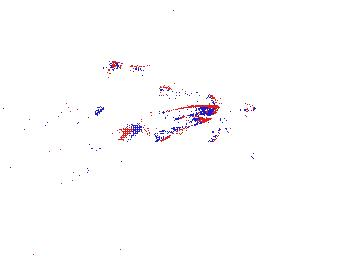X-ray fish: (43, 96, 90, 134), (129, 7, 161, 53)
red belly glassfish: (154, 79, 196, 102), (123, 57, 163, 77)
redtail glassfish: (168, 95, 259, 142), (118, 104, 217, 145), (71, 58, 124, 82), (232, 136, 255, 167)
